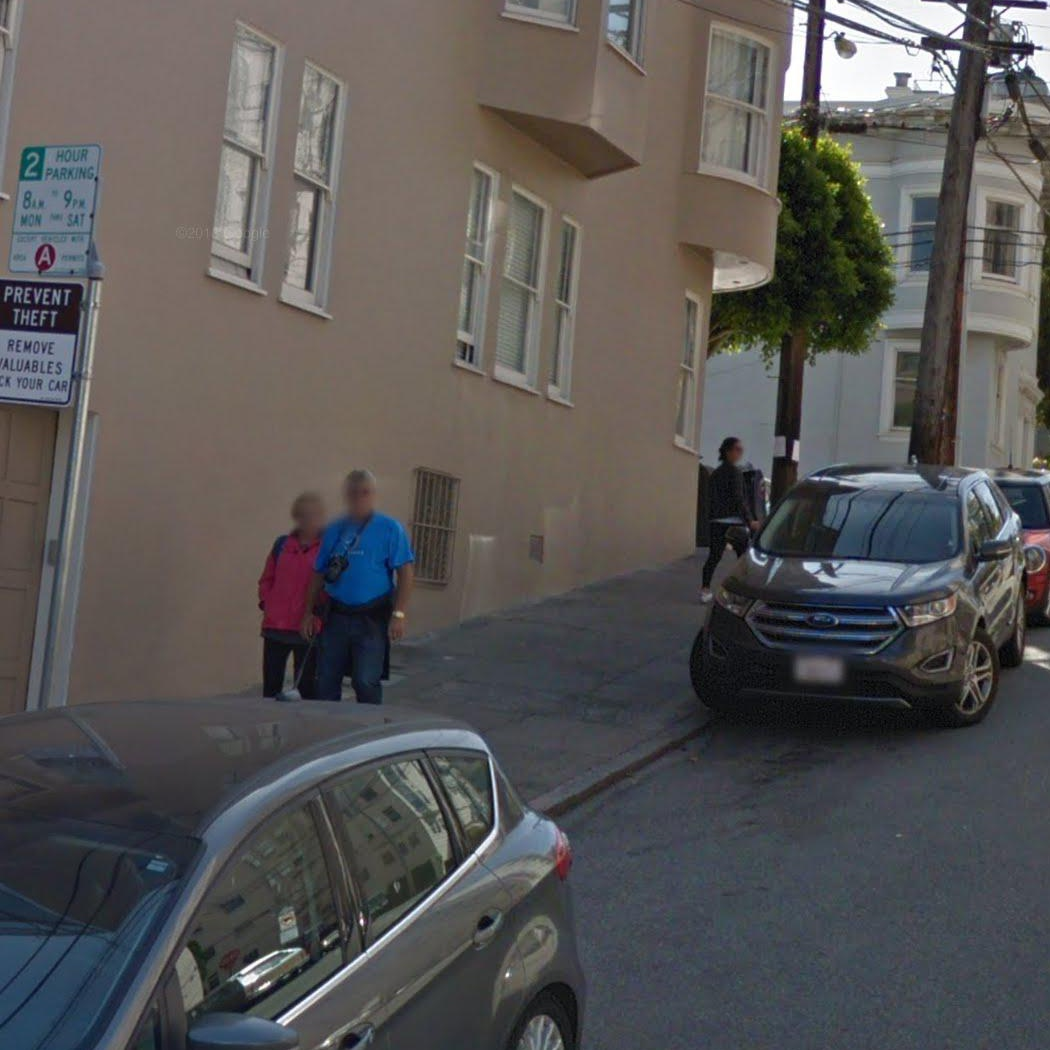2 Hour Parking: (8, 144, 100, 277)
